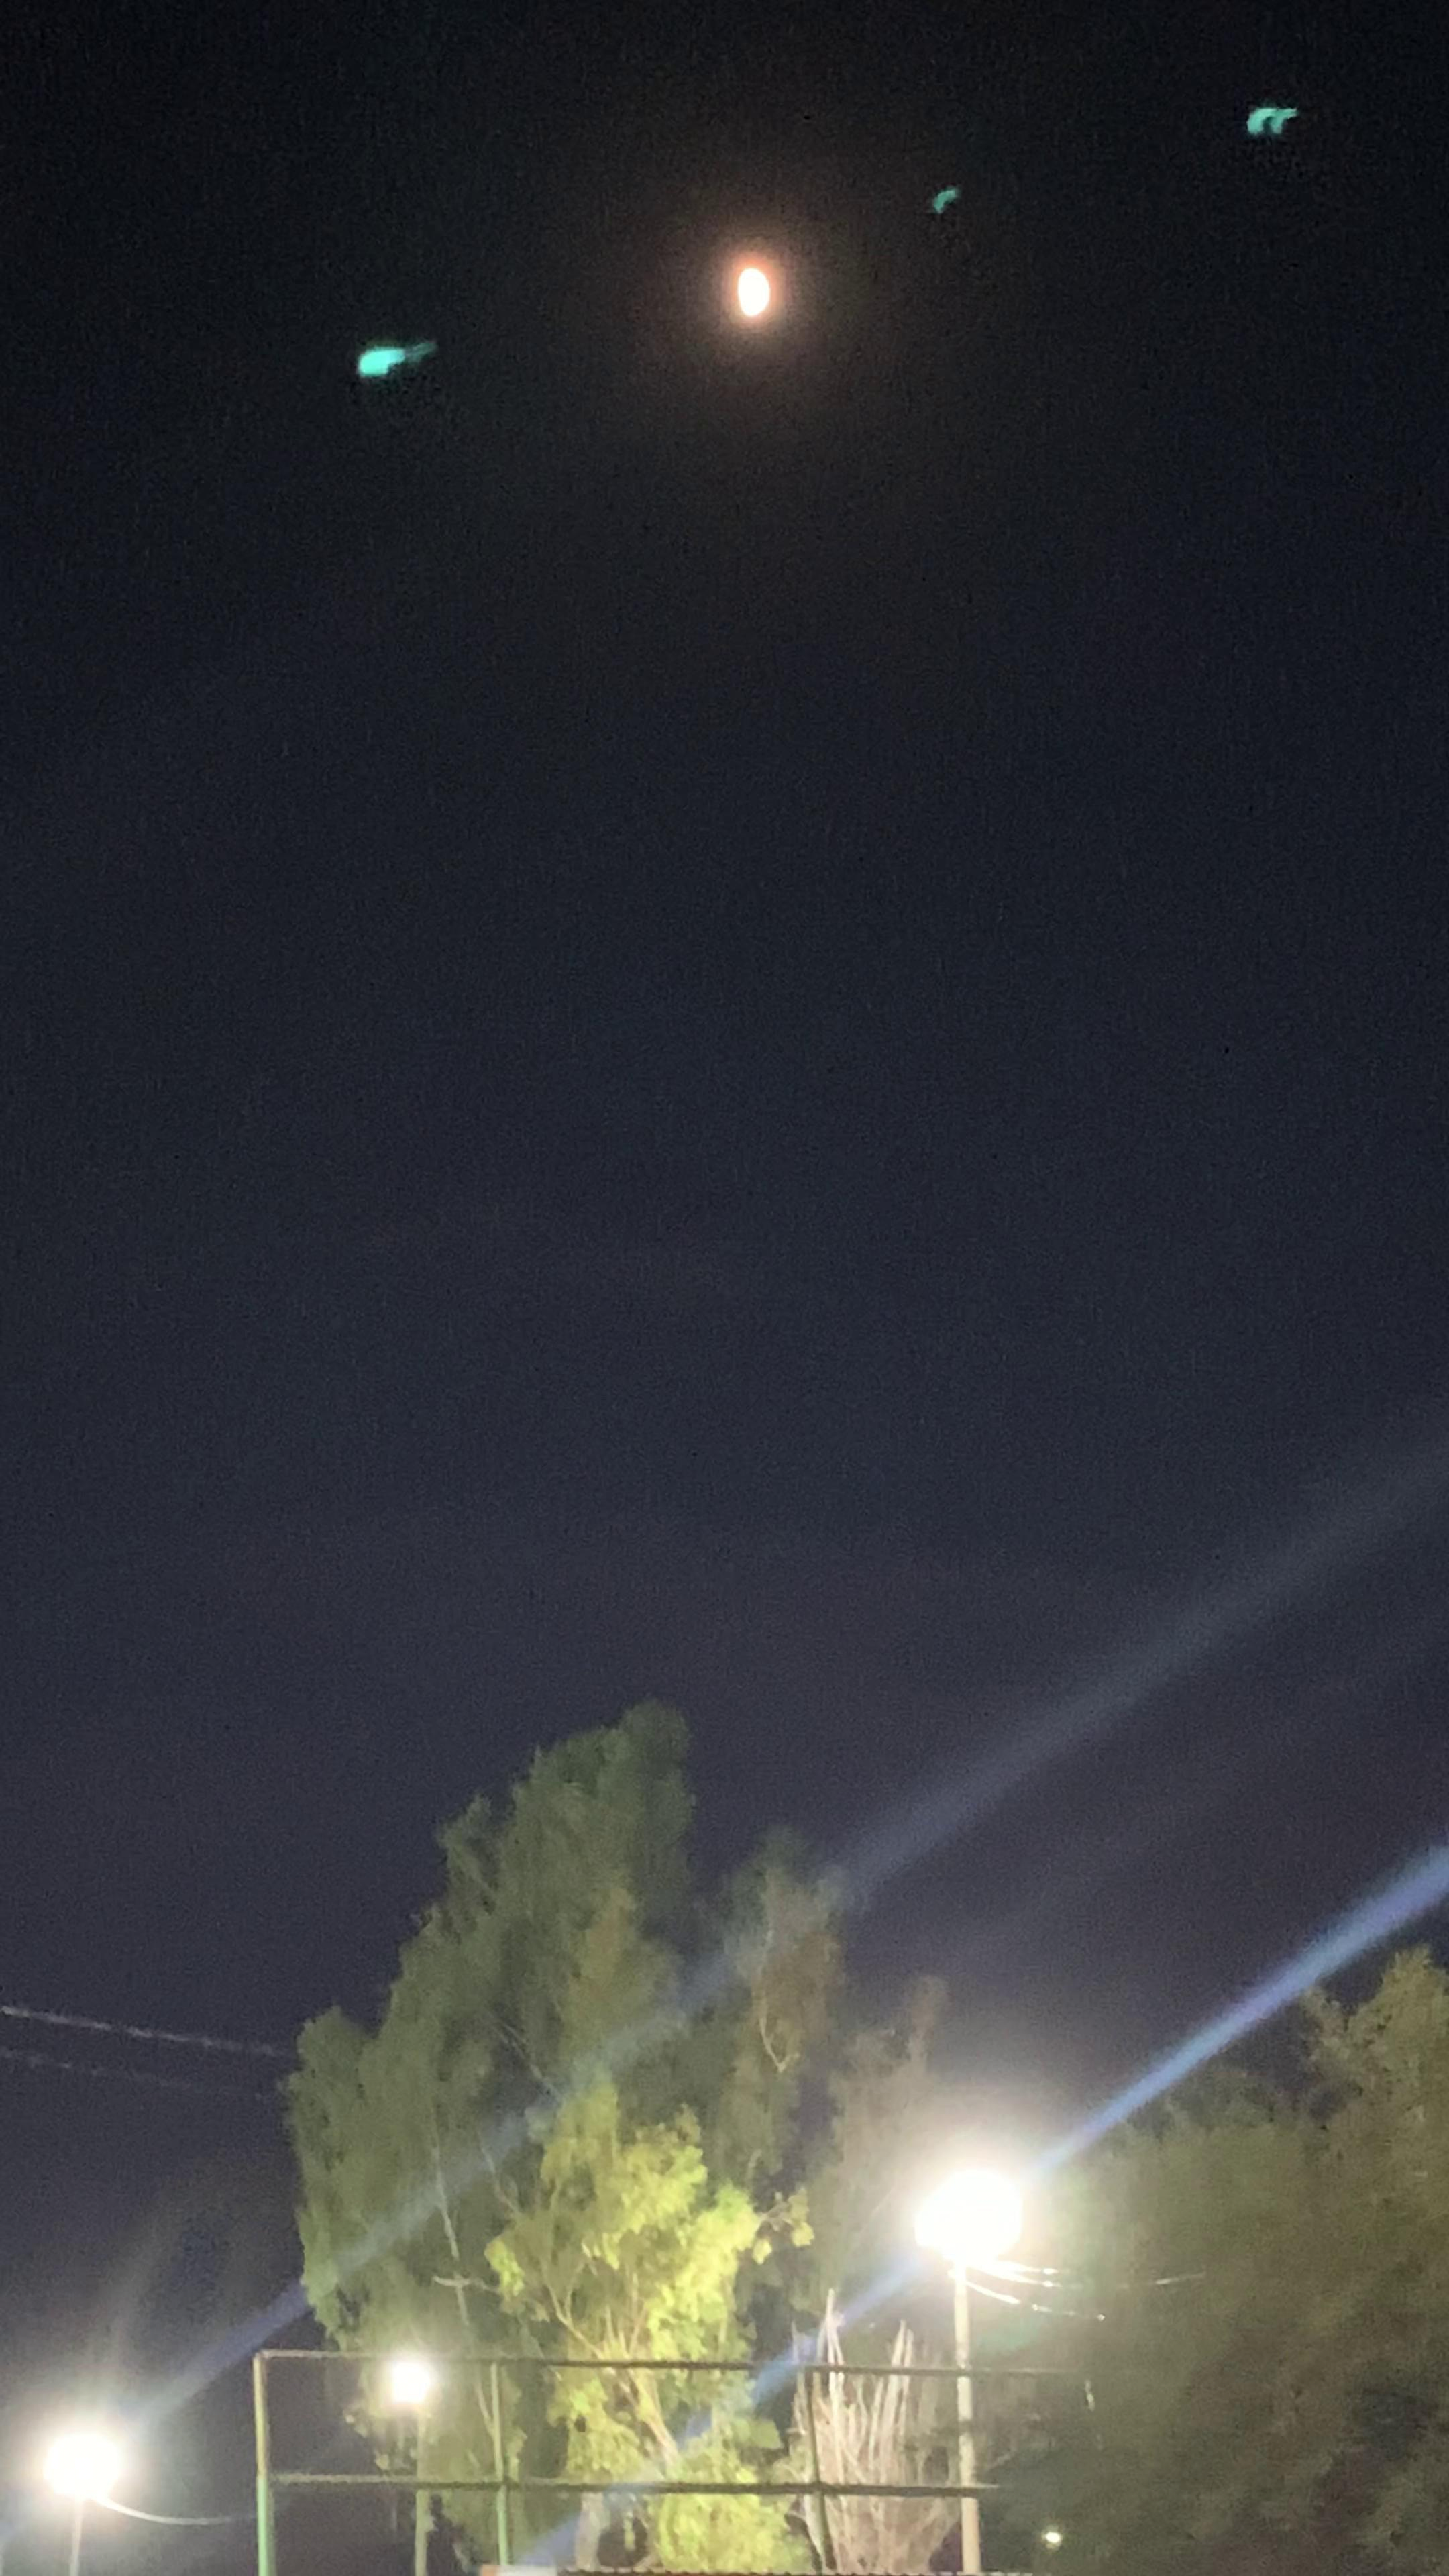moon: (674, 248, 835, 393)
